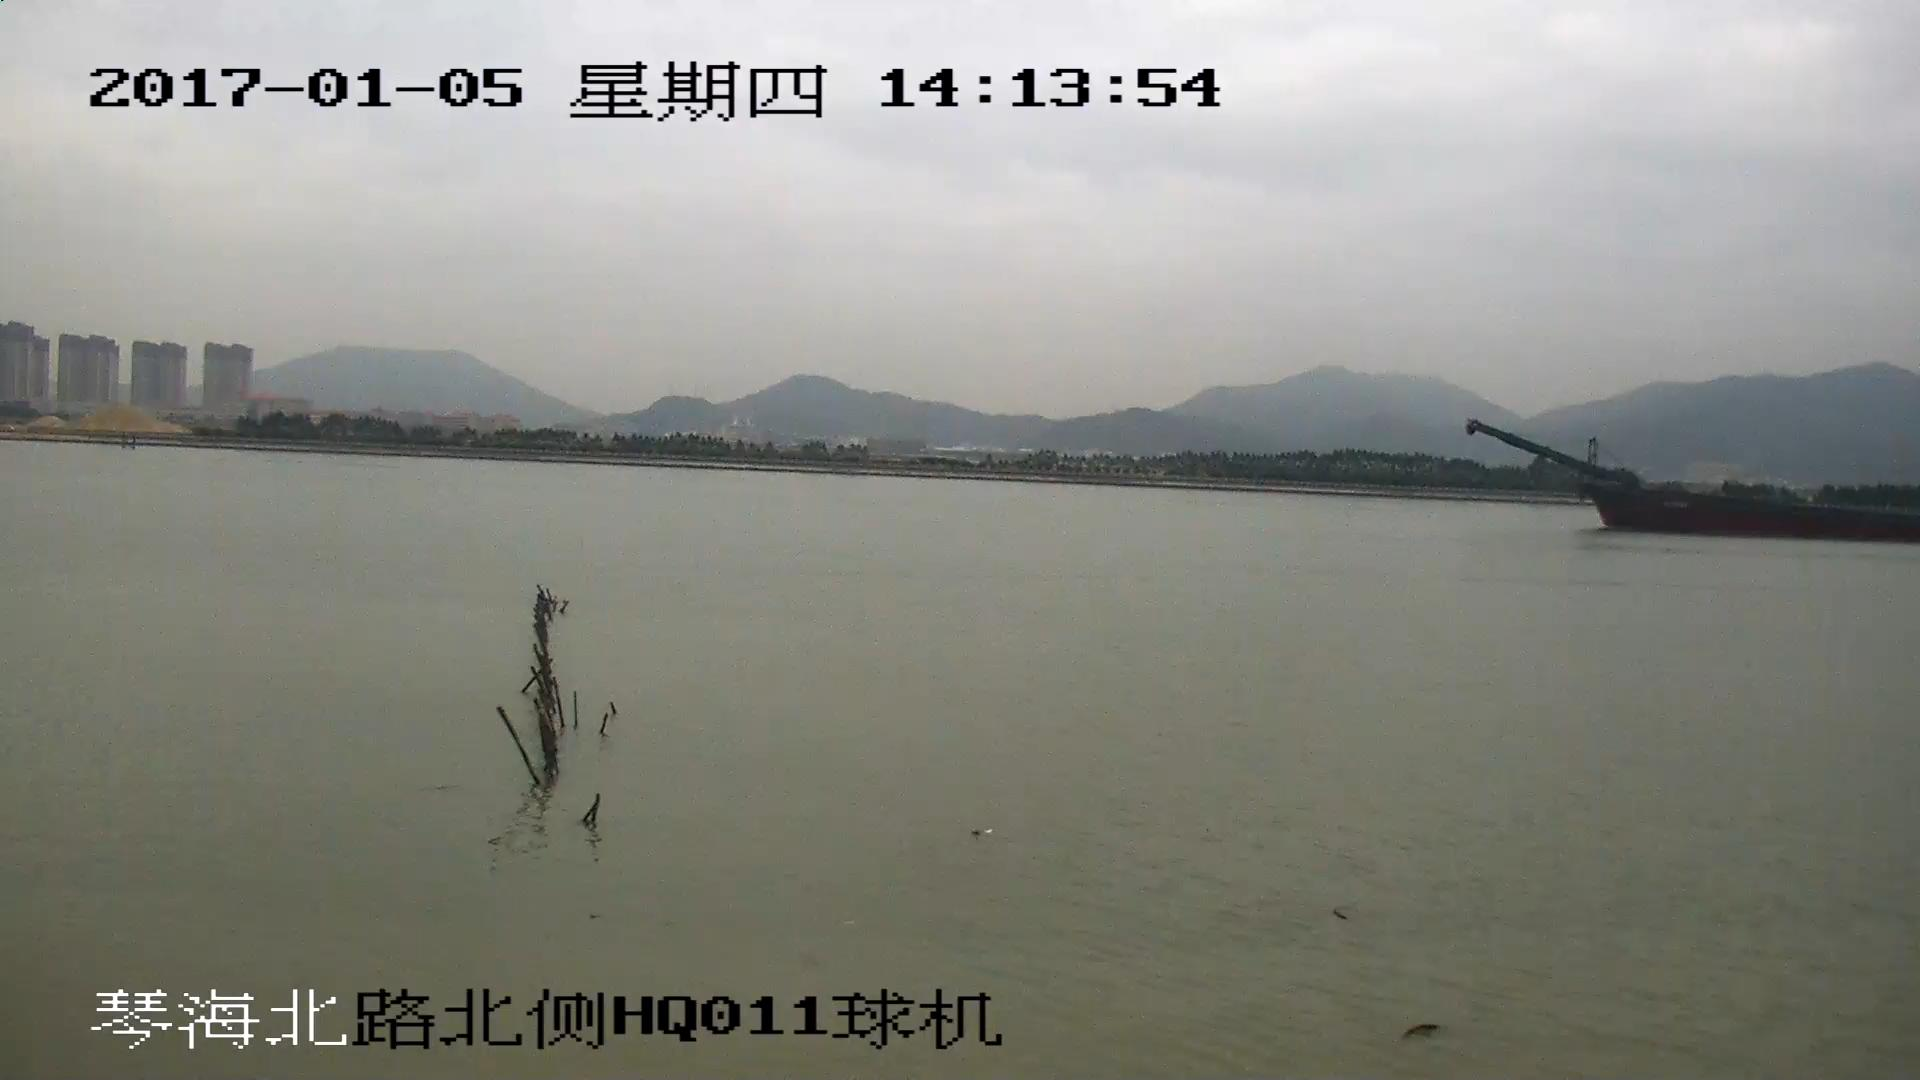bulk cargo carrier: (1465, 420, 1920, 544)
